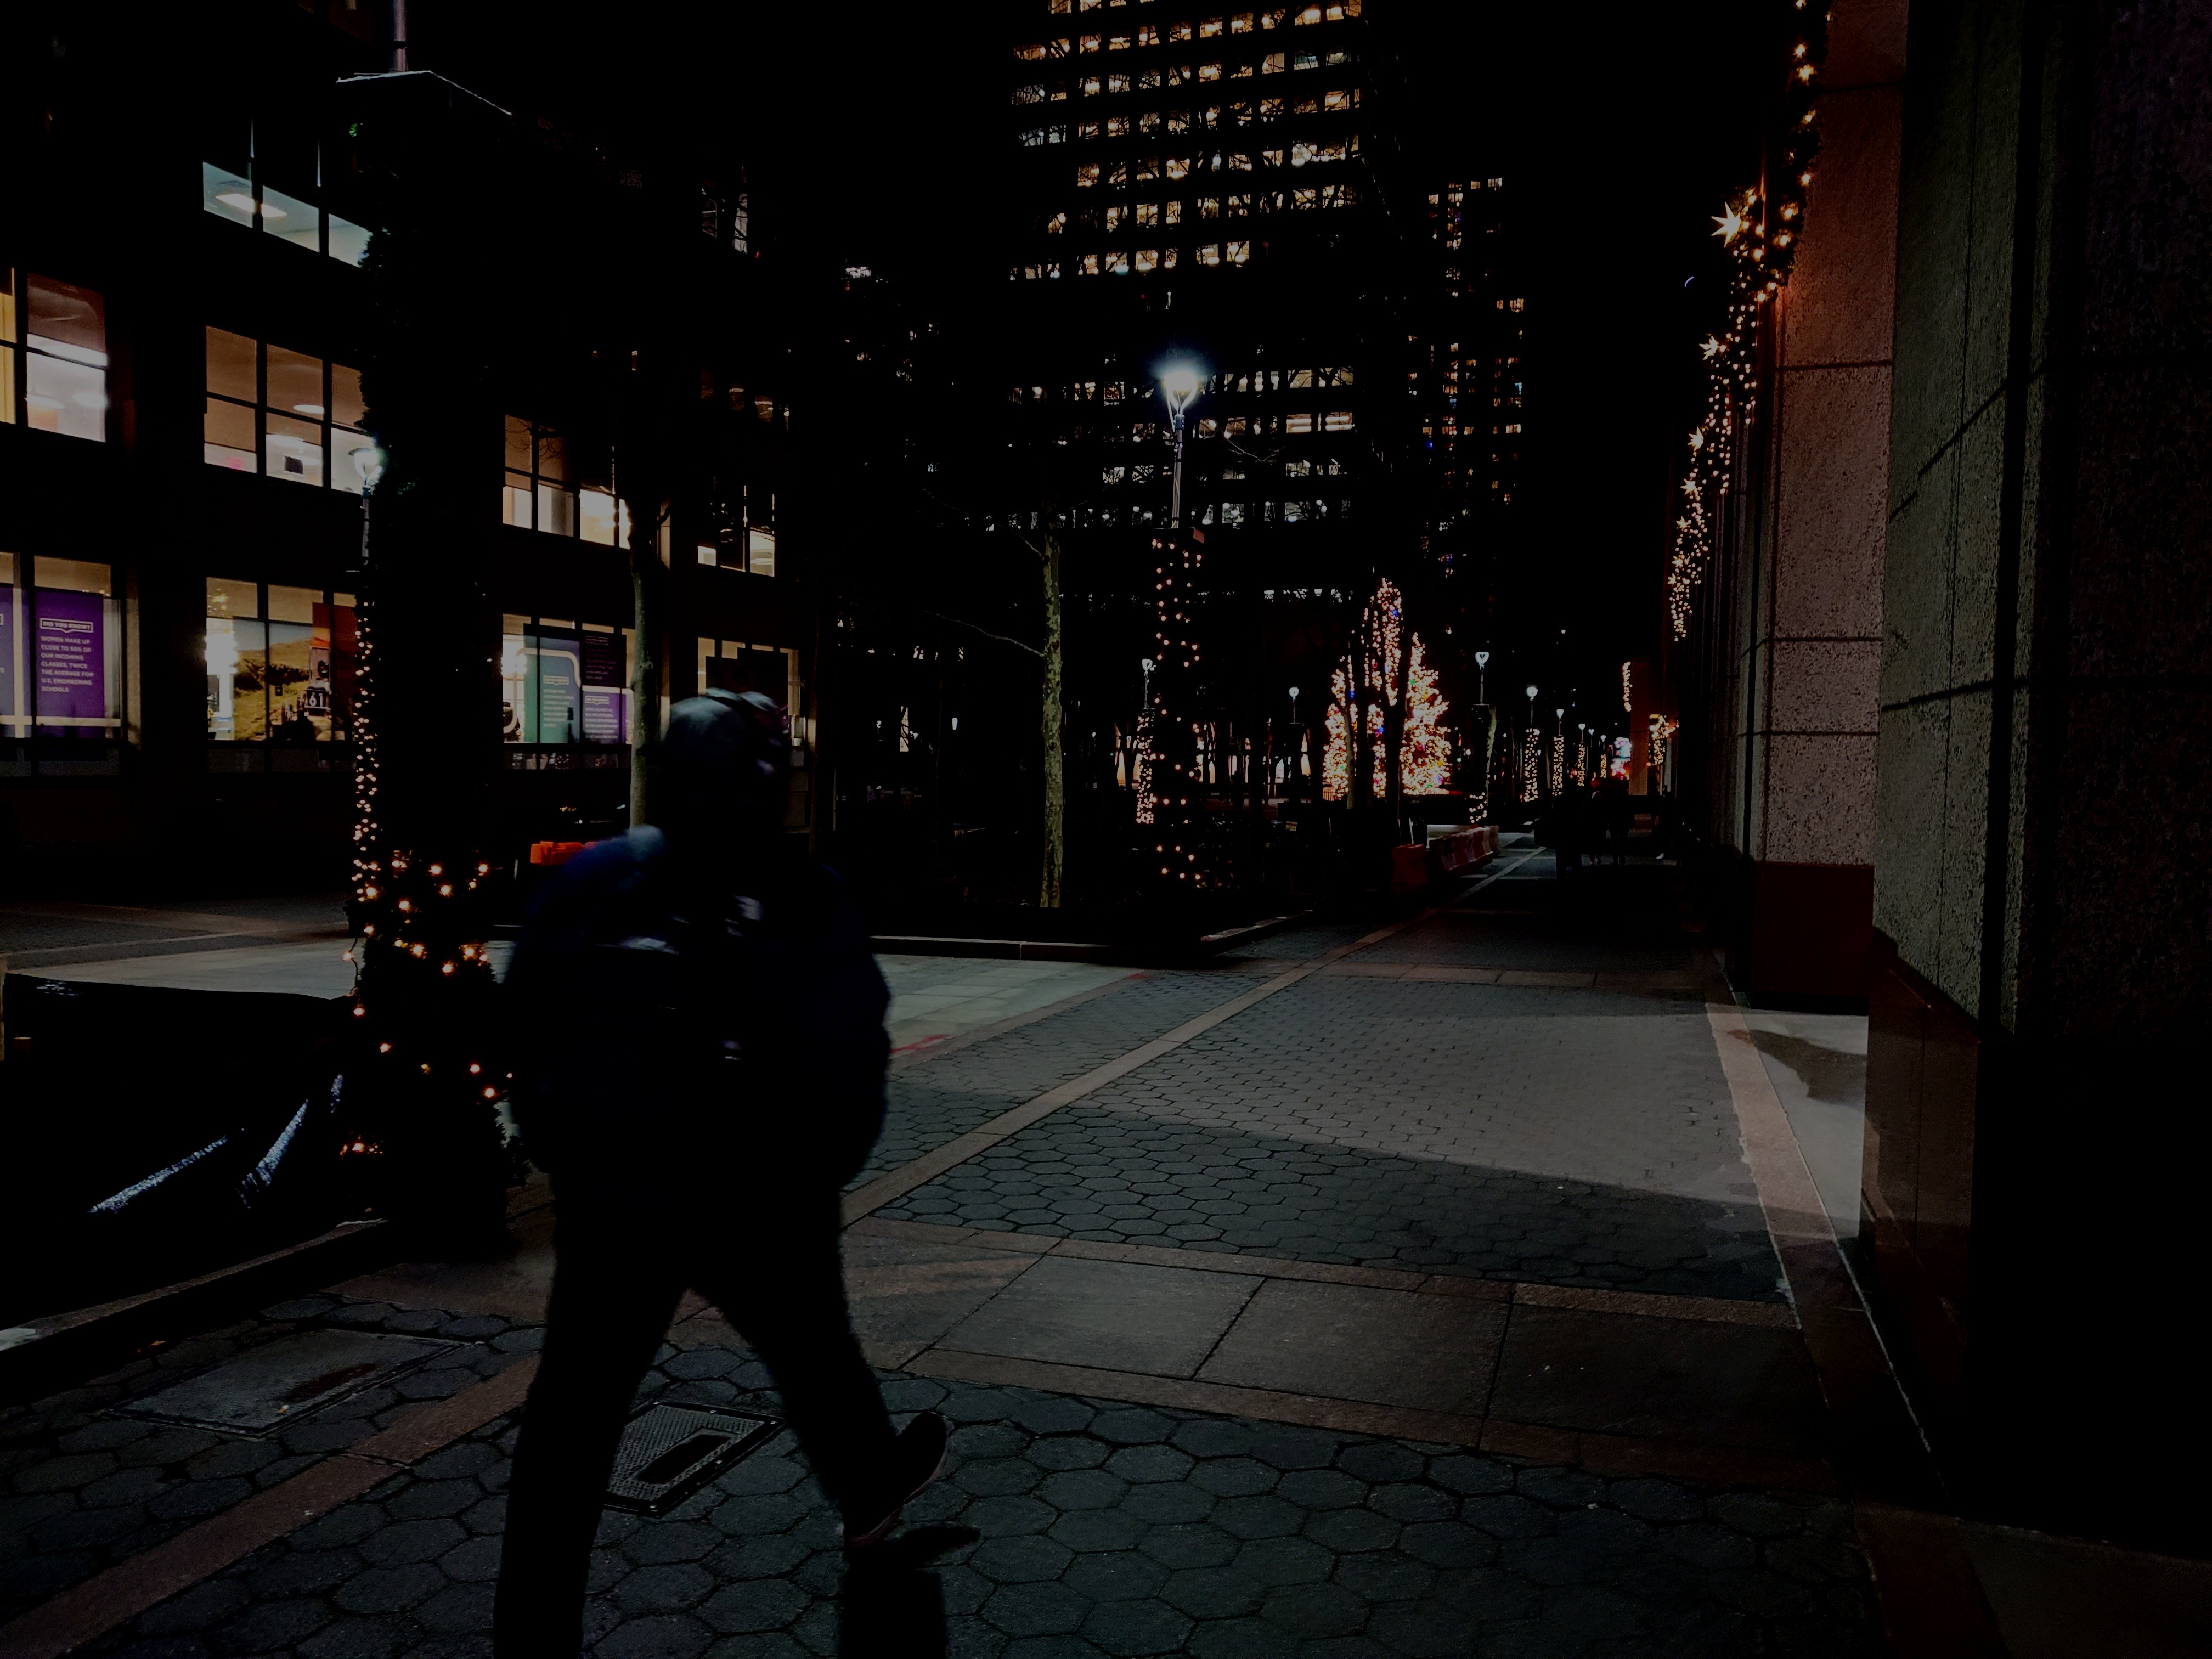person: (491, 695, 960, 1659)
